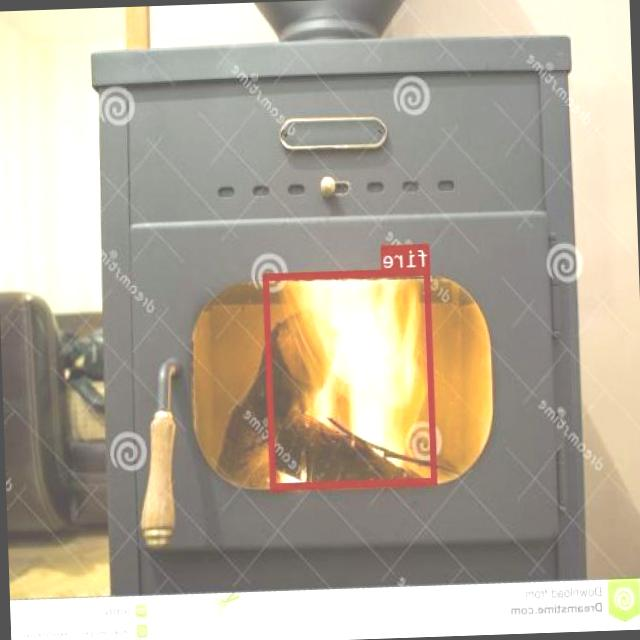fire: (264, 267, 438, 489)
